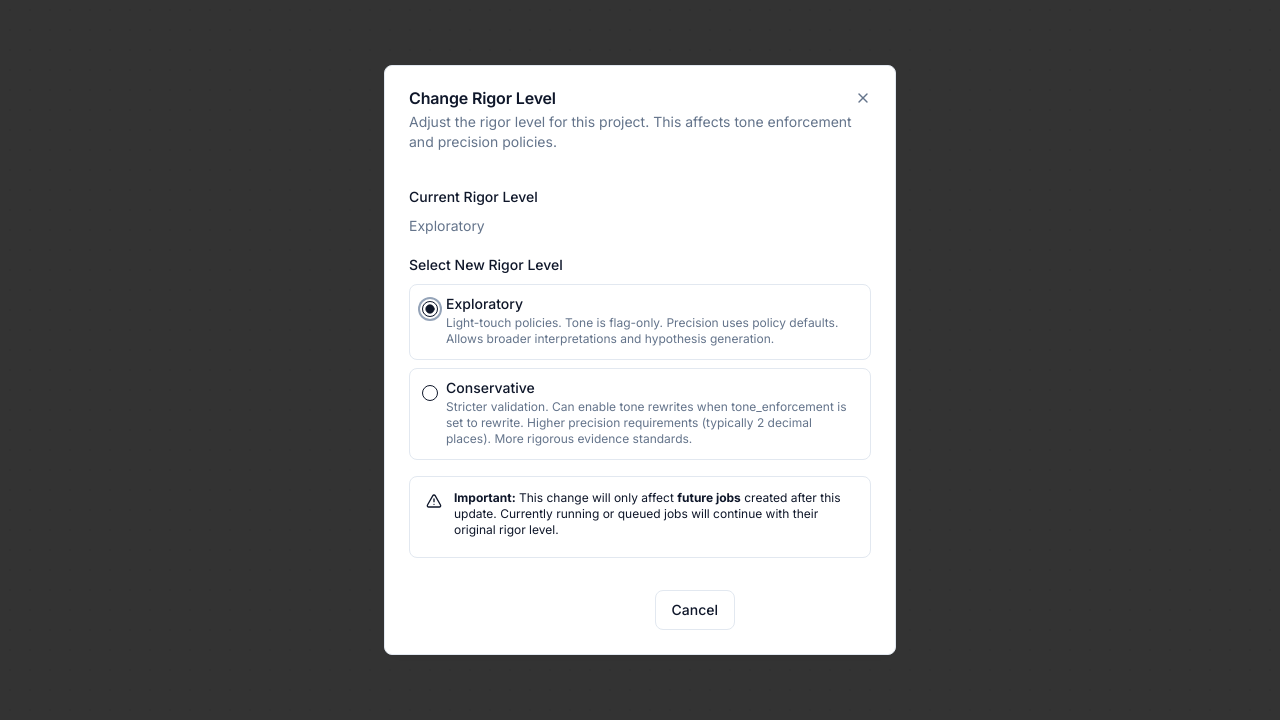
Test: RigorToggleModal › allows selecting different rigor level
The width and height of the screenshot is (1280, 720).
Click the radio button named "Conservative" next to "Conservative" at (430, 393), box x1=422 y1=385 x2=438 y2=401
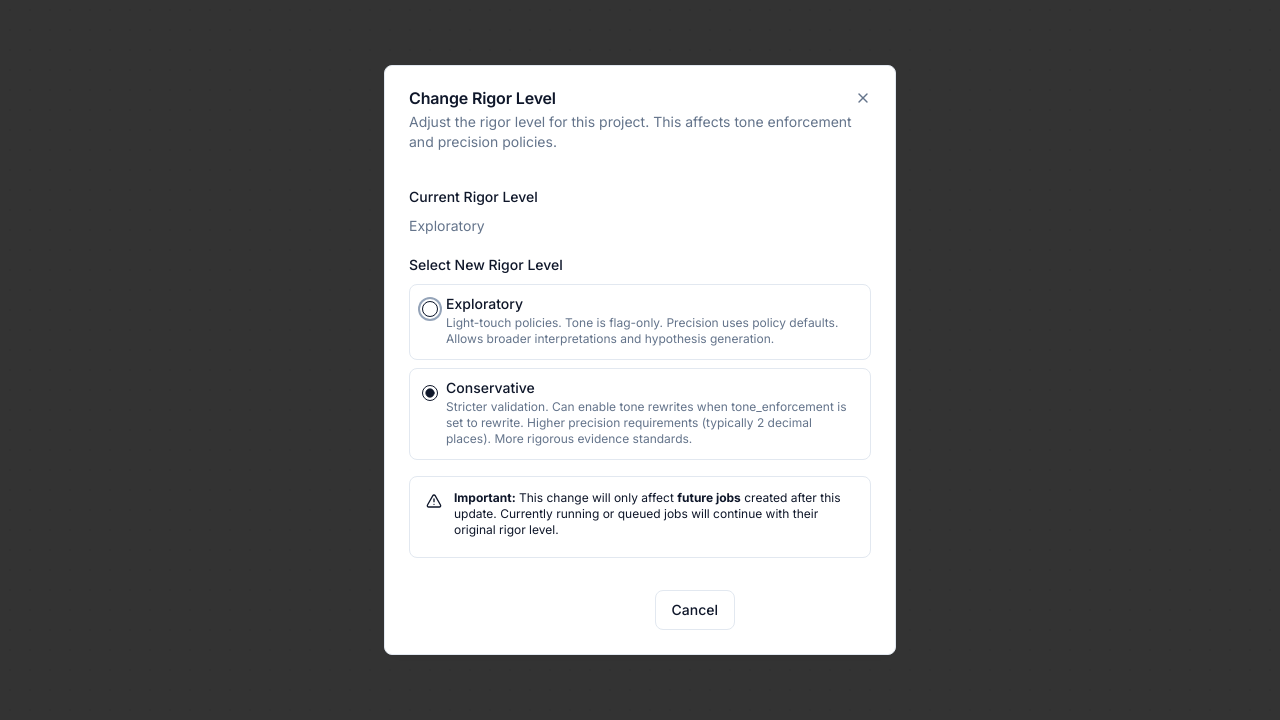
Expected: the radio button named "Conservative" next to "Conservative" is checked, x1=422 y1=385 x2=438 y2=401
